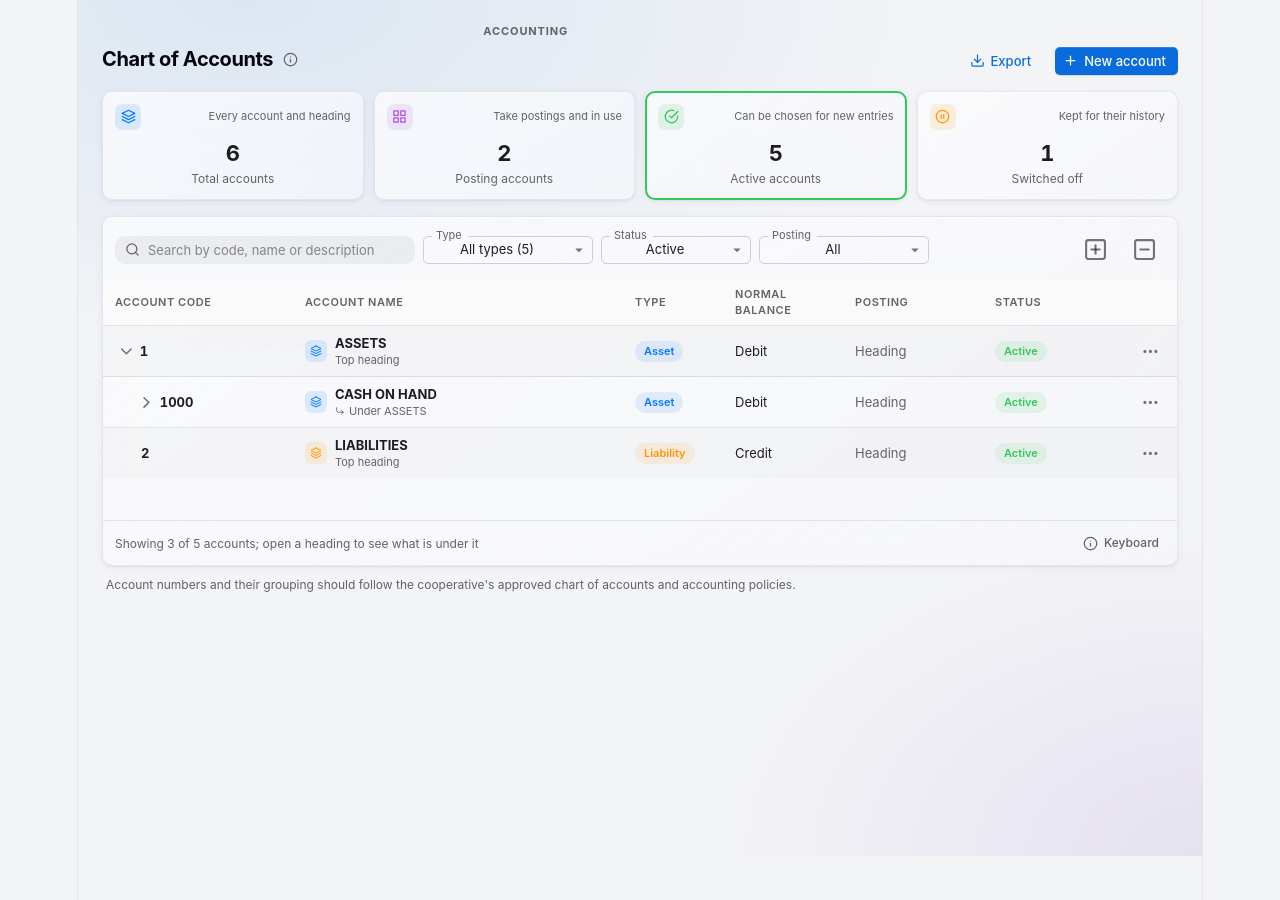
Test: Chart of Accounts › opens every heading in the background with the list marked busy meanwhile, then lets it be used again
Click the button named "Expand all".
click(1095, 250)  # box [1075,229,1116,270]
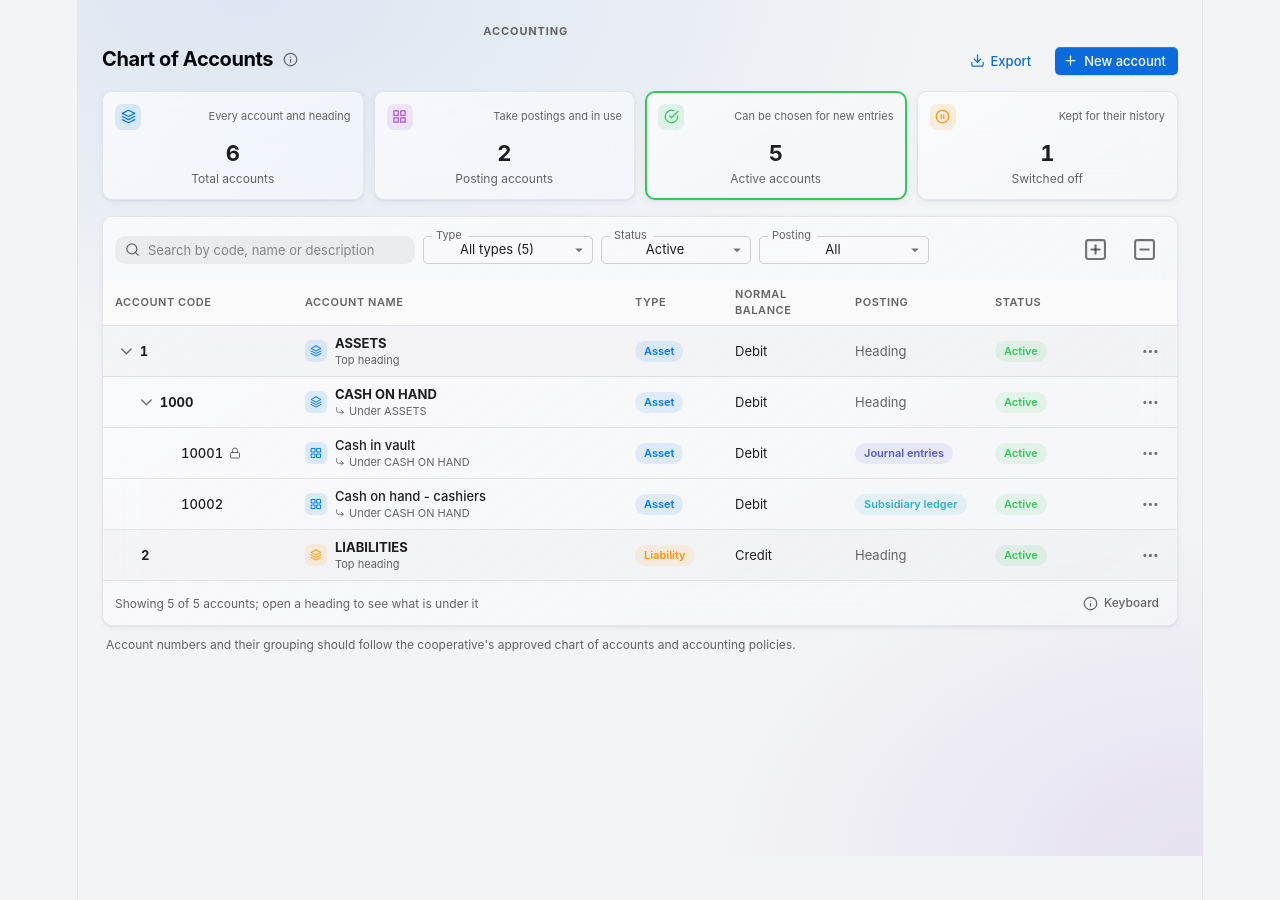
Now the button "Cash in vault" is shown, box [335,437,415,455]
Click the button named "Collapse all".
click(1144, 250)  # box [1124,229,1165,270]
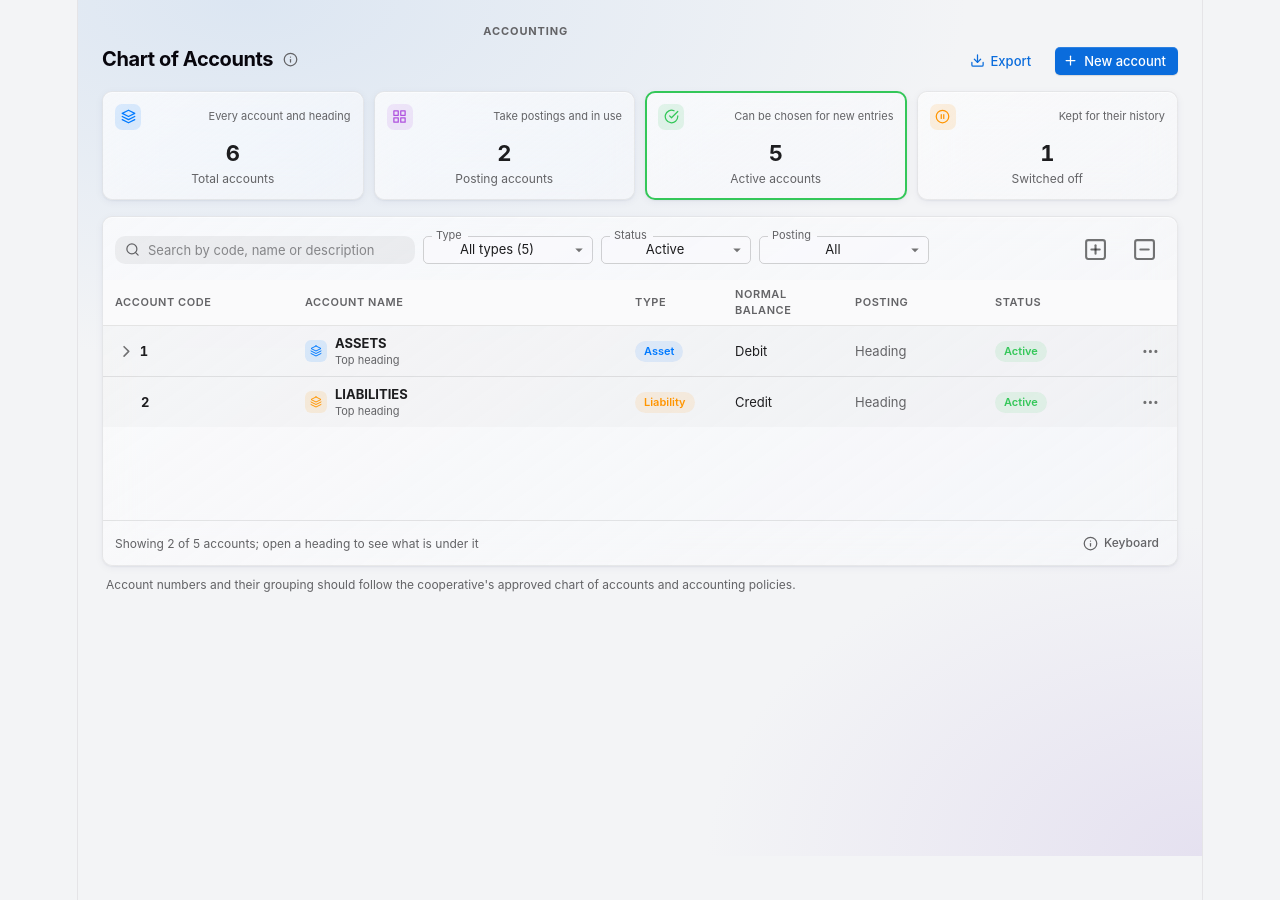
Now the button "Cash in vault" is gone
